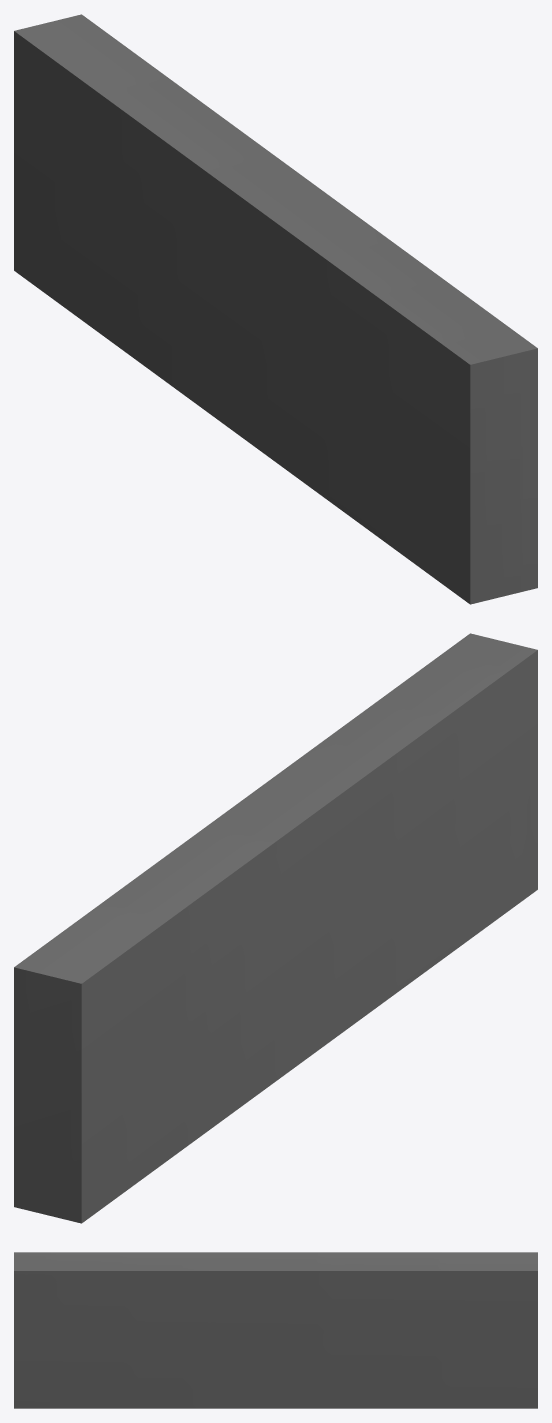
File: Building_Wall.glb
3 views of the same model, one above another, from view 1: azimuth 30°, elevation 25°; view 2: azimuth 150°, elevation 25°; view 3: azimuth 270°, elevation 25° (orthographic). The views are drawn at different scales.
Visible parts, largest first — view 1: Wall.col; view 2: Wall.col; view 3: Wall.col.
Boxes of the visible parts, x1,y1,x2,y2 form: Wall.col: (14, 14, 537, 604); Wall.col: (14, 633, 537, 1223); Wall.col: (14, 1252, 537, 1408).
Size of the model in its own units: 2 by 6.76 by 23.33.
Materials: 1 (1 with a texture image).
